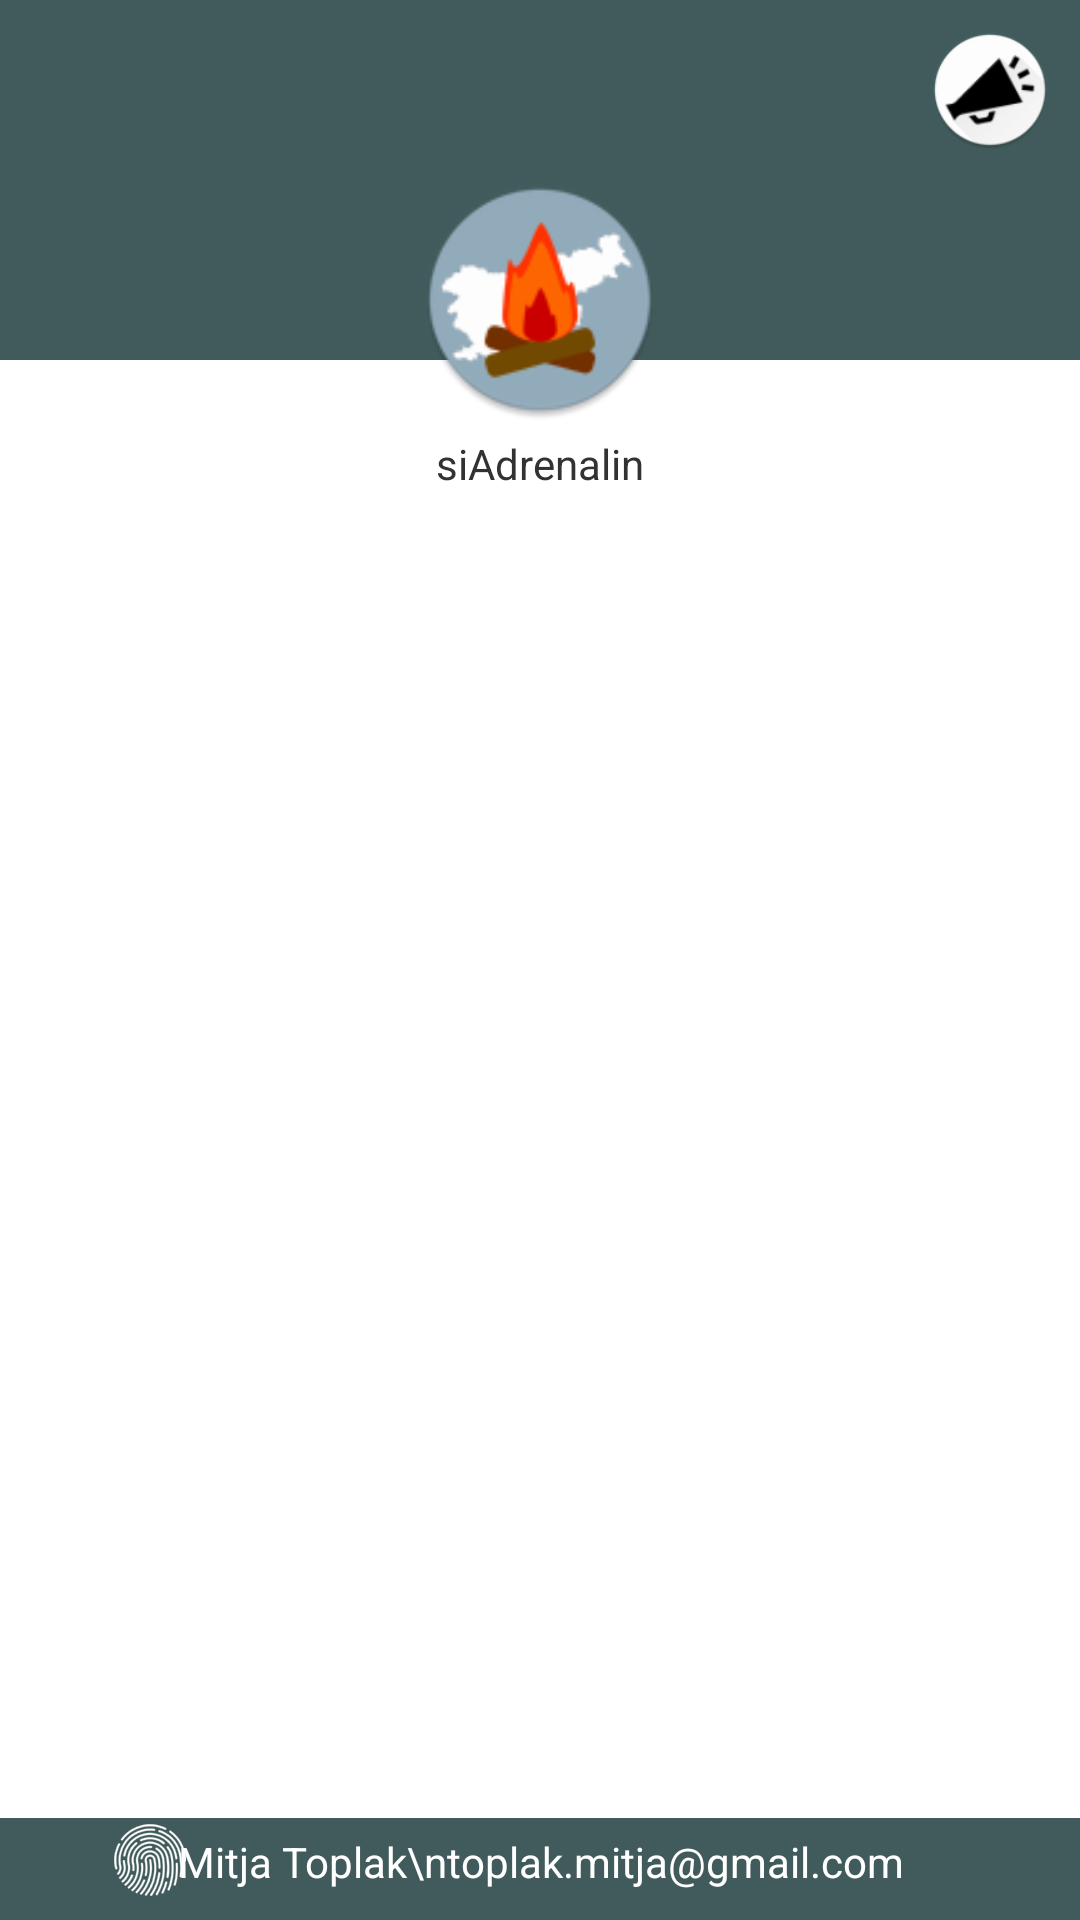

Named icons in this screenshot (1080px x 1920px) and their bounding boxes, [x1=x1, y1=y1, x2=x2, y2=y2]:
megaphone: [x1=934, y1=34, x2=1046, y2=145]
